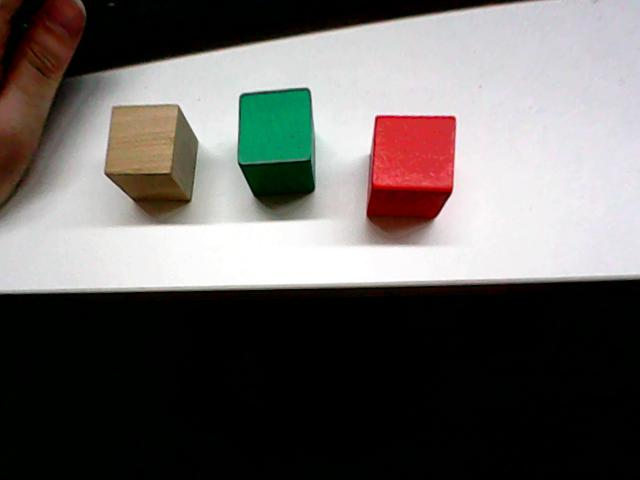green_box: (234, 83, 319, 201)
raw_box: (100, 98, 202, 214)
red_box: (363, 109, 459, 225)
